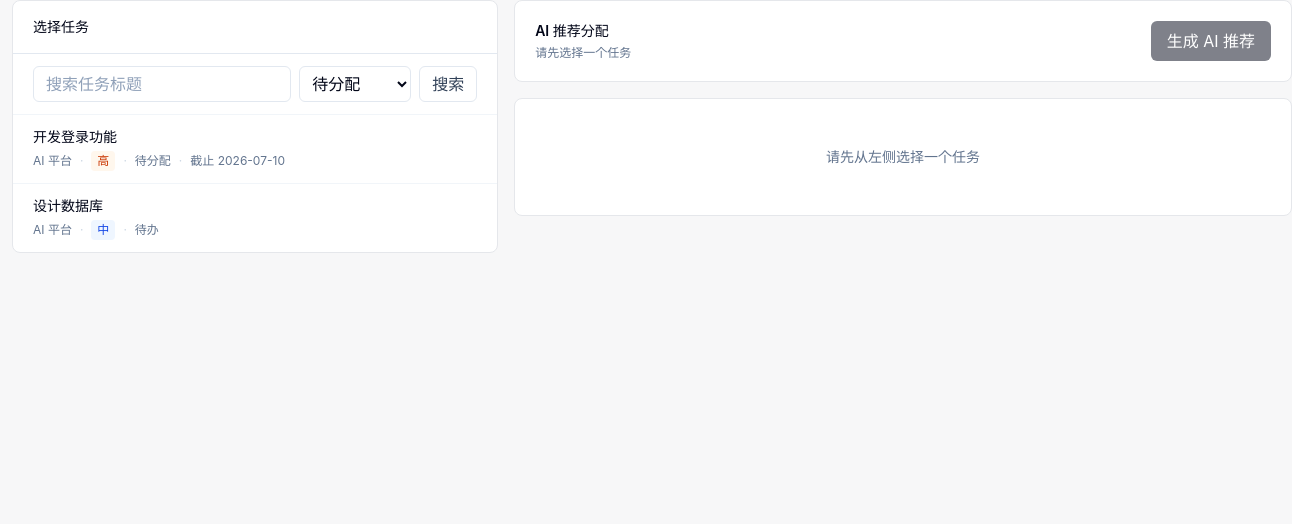
AiAssignmentView › shows empty state when no recommendations
The width and height of the screenshot is (1292, 524).
Click the button "开发登录功能 AI 平台 · 高 · 待分配 · 截止 2026-07-10" at (75, 136), box [13,115,497,184]
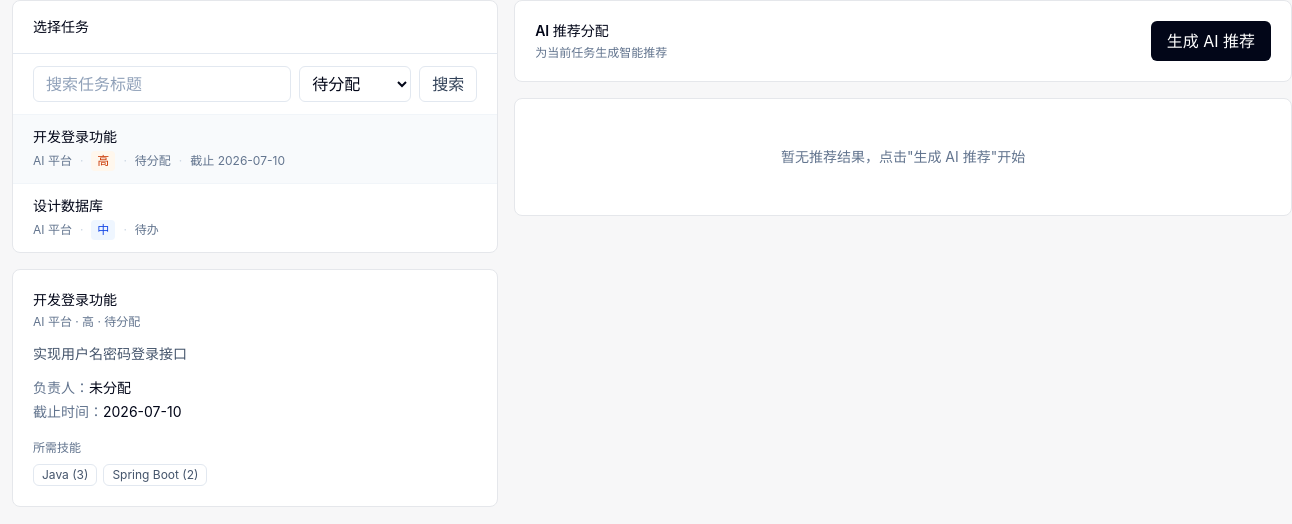
Result: the text "暂无推荐结果" is shown at [781,148,1025,165]
